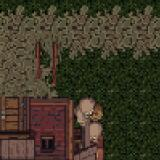Interaction: (24, 31, 70, 78)
Obstacle: (0, 66, 124, 160)
